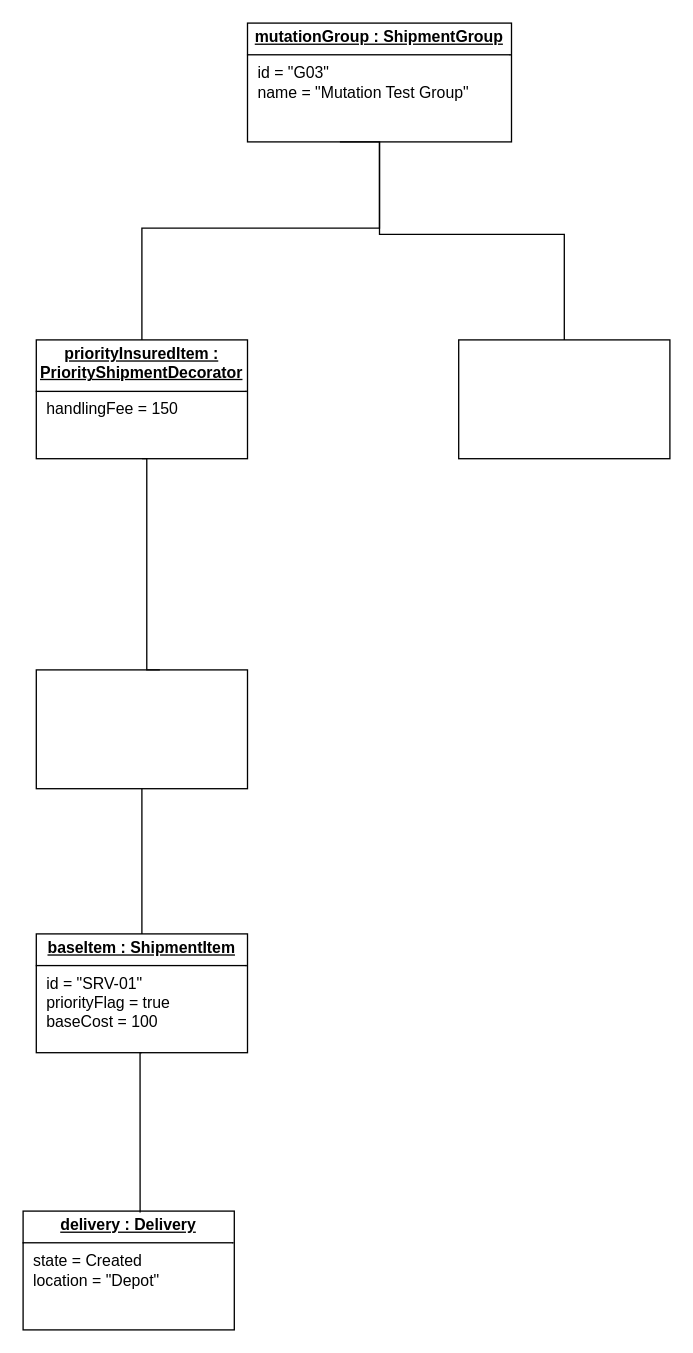
The diagram is 693 pixels wide and 1353 high, and some of its shapes have lost their labels. The centre of each missing label's shape, as x and y in pixels:
existingItem : ShipmentItem id = "CABL-01" weight = 30.5 priorityFlag = false: [563,399]
insuredItem : InsuredDecorator insuranceCost = 200: [141,729]
